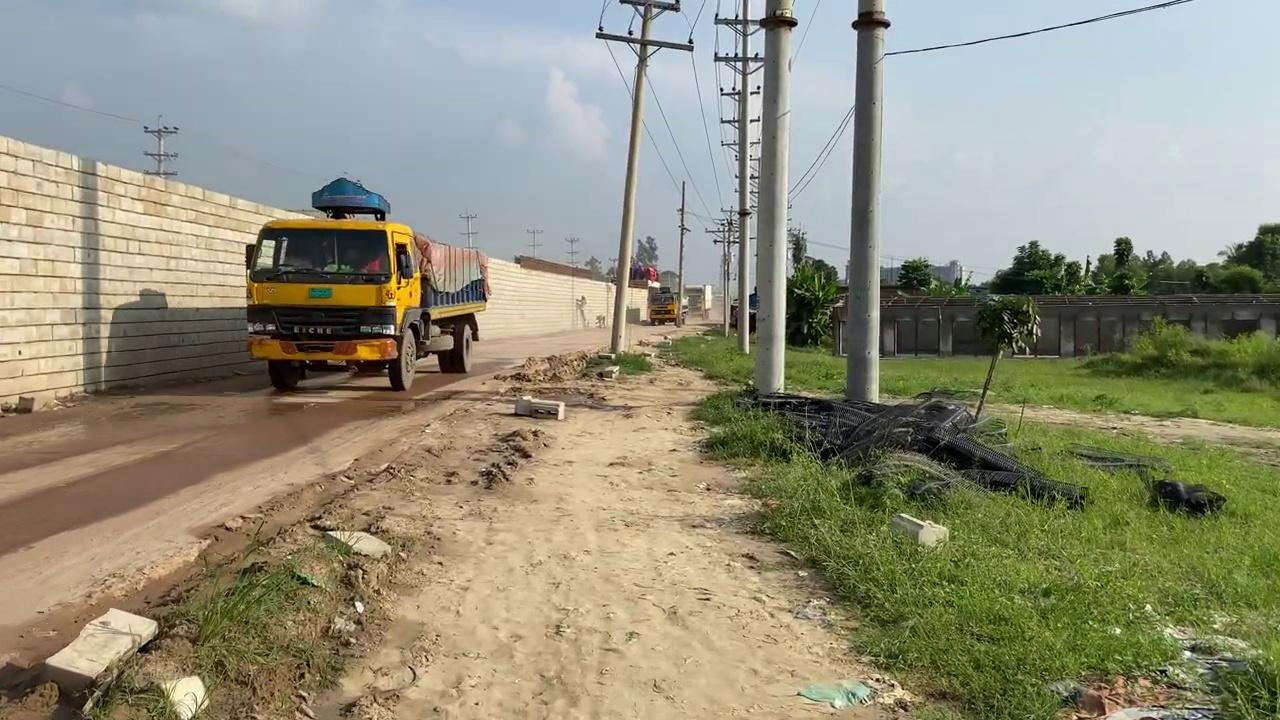Dog: (594, 313, 606, 328)
Fence: (830, 291, 1278, 358)
Obstacle: (513, 396, 565, 420)
Pole: (596, 0, 694, 357), (844, 0, 890, 403), (753, 0, 796, 394), (735, 1, 751, 354)
Rickshaw: (80, 318, 801, 720)
Traffic-sign: (895, 255, 931, 294)
Tree: (244, 174, 490, 392), (647, 285, 682, 326)
Upstairs: (0, 133, 658, 411)
